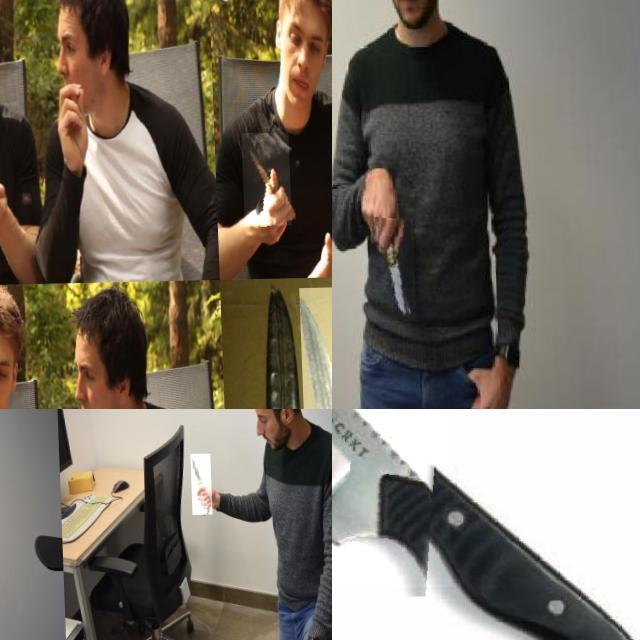-: (332, 409, 522, 594), (362, 218, 413, 324), (240, 134, 290, 228), (296, 288, 332, 409), (171, 409, 234, 433), (187, 456, 209, 518), (0, 143, 14, 218), (0, 522, 23, 562), (0, 409, 27, 431)
